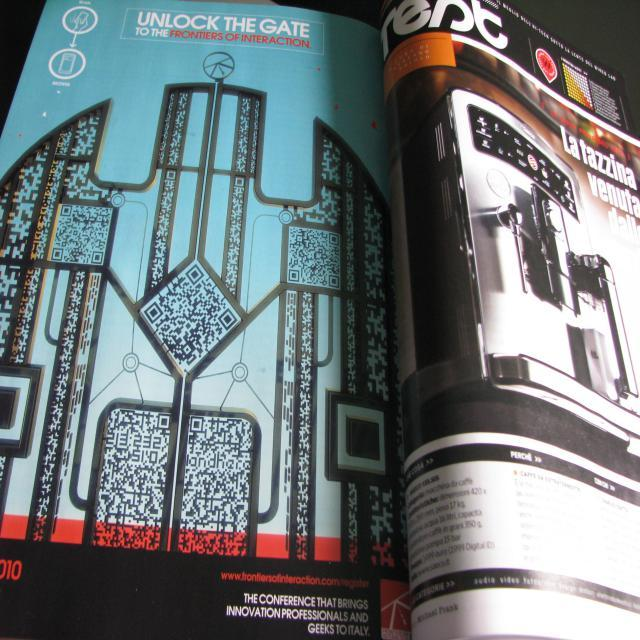qrcode: (145, 265, 238, 368), (52, 206, 112, 265), (289, 229, 340, 289)
